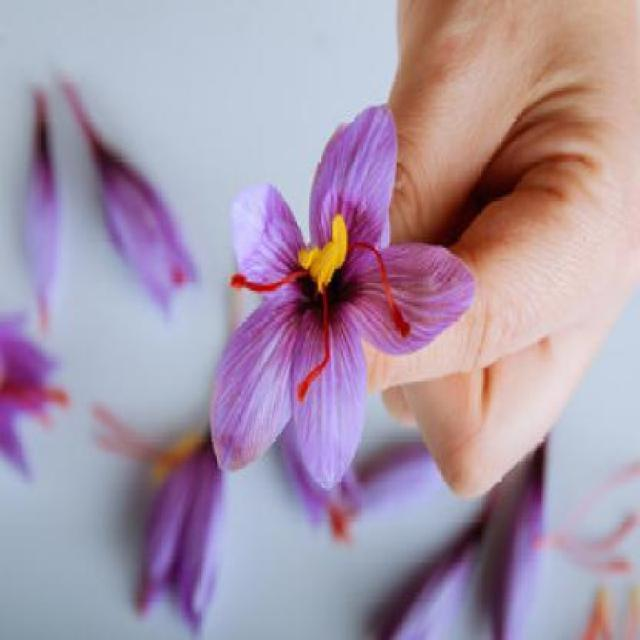saffron closed: (492, 446, 543, 640), (25, 91, 59, 331)
saffron open: (211, 106, 474, 489), (61, 80, 195, 312)
